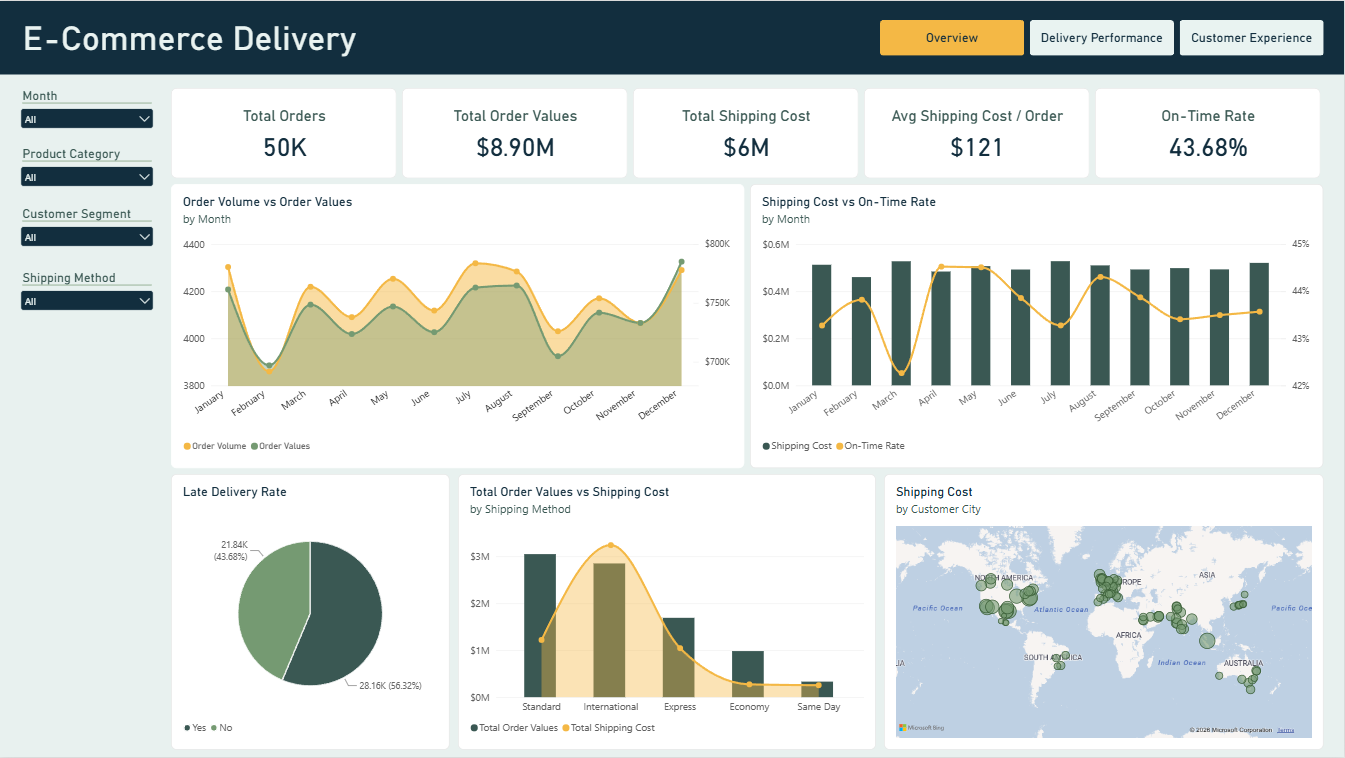

The page's visual inventory and layout, read from the dashboard file:
{"tool":"powerbi","page":{"name":"Overview","canvas":[1920,1080],"ordinal":0},"visuals":[{"type":"shape","box":[0,0,1920.3,105.4],"z":0},{"type":"cardVisual","fields":{"Data":["FactOrders.Total Orders","FactOrders.Total Order Values","FactOrders.Total Shipping Cost","FactOrders.Shipping Cost per Order","FactOrders.On-Time Rate"]},"box":[245,123.8,1646.3,129.1],"z":1000},{"type":"lineChart","title":"Order Volume vs Order Values","fields":{"Category":["dimDate.Month"],"Y":["FactOrders.Total Orders"],"Y2":["FactOrders.Total Order Values"]},"box":[245,262.1,819,405.7],"z":2000},{"type":"textbox","title":"E-Commerce Delivery","box":[32.9,23.7,513.7,60.6],"z":3000},{"type":"lineClusteredColumnComboChart","title":"Shipping Cost vs On-Time Rate","fields":{"Category":["dimDate.Month"],"Y":["FactOrders.Total Shipping Cost"],"Y2":["FactOrders.On-Time Rate"]},"box":[1072.1,262.1,819,405.7],"z":4000},{"type":"pieChart","title":"Late Delivery Rate","fields":{"Category":["FactOrders.late_delivery"],"Y":["CountNonNull(FactOrders.order_id)"]},"box":[245,675.7,397.8,393.8],"z":5000},{"type":"map","title":"Shipping Cost","fields":{"Category":["DimCustomers.customer_city"],"Size":["FactOrders.Total Shipping Cost"]},"box":[1263.1,675.7,628.2,393.8],"z":6000},{"type":"lineClusteredColumnComboChart","title":"Total Order Values vs Shipping Cost","fields":{"Category":["FactOrders.shipping_method"],"Y":["FactOrders.Total Order Values"],"Y2":["FactOrders.Total Shipping Cost"]},"box":[654.6,675.7,596.6,393.8],"z":7000},{"type":"pageNavigator","box":[1256.5,27.7,634.8,51.4],"z":8000},{"type":"slicer","fields":{"Values":["dimDate.Month"]},"box":[23.7,123.8,200,70],"z":9000},{"type":"slicer","fields":{"Values":["DimProductCategory.product_category"]},"box":[23.7,206.8,200,70],"z":10000},{"type":"slicer","fields":{"Values":["DimCustomers.customer_segment"]},"box":[23.7,292.4,200.2,80],"z":11000},{"type":"slicer","fields":{"Values":["FactOrders.shipping_method"]},"box":[23.7,384.6,200.2,80.3],"z":12000}]}

Visuals, with their boxes in screenshot pixels (x1, y1, x2, y2), scaled from the page's 1920x1080 canvas onto the 1345x758 screenshot:
shape: rect(0, 0, 1344, 74)
cardVisual - FactOrders.Total Orders x FactOrders.Total Order Values: rect(172, 87, 1325, 177)
"Order Volume vs Order Values" lineChart: rect(172, 184, 745, 469)
"E-Commerce Delivery" textbox: rect(23, 17, 383, 59)
"Shipping Cost vs On-Time Rate" lineClusteredColumnComboChart: rect(751, 184, 1325, 469)
"Late Delivery Rate" pieChart: rect(172, 474, 450, 751)
"Shipping Cost" map: rect(885, 474, 1325, 751)
"Total Order Values vs Shipping Cost" lineClusteredColumnComboChart: rect(459, 474, 876, 751)
pageNavigator: rect(880, 19, 1325, 56)
slicer - dimDate.Month: rect(17, 87, 157, 136)
slicer - DimProductCategory.product_category: rect(17, 145, 157, 194)
slicer - DimCustomers.customer_segment: rect(17, 205, 157, 261)
slicer - FactOrders.shipping_method: rect(17, 270, 157, 326)
